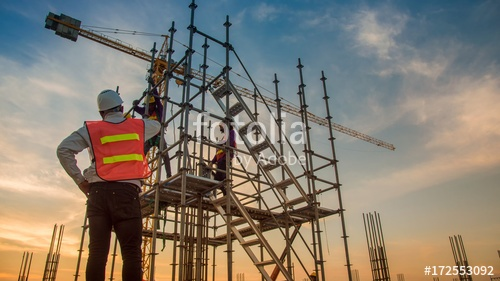white: (97, 90, 123, 120)
yellow: (143, 95, 155, 109)
